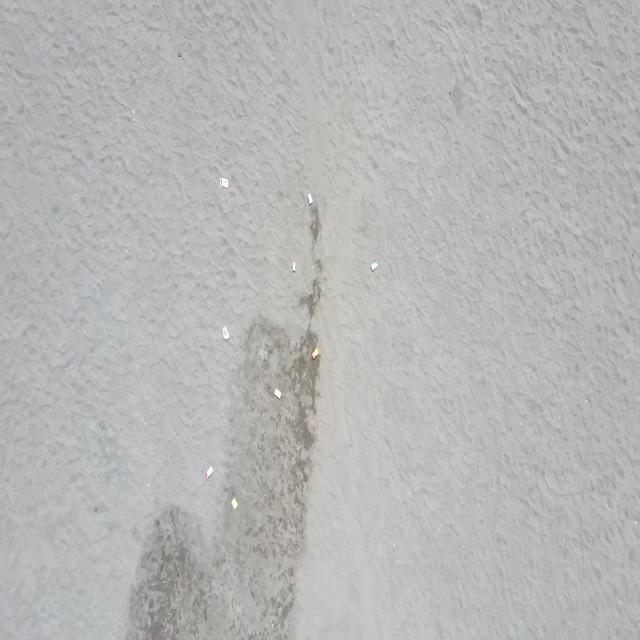retort-pouch: (311, 346, 320, 362), (370, 258, 379, 274), (221, 324, 230, 340), (219, 176, 229, 190), (306, 191, 314, 207), (230, 496, 238, 511), (205, 465, 213, 480), (274, 386, 282, 400), (292, 260, 298, 273)
